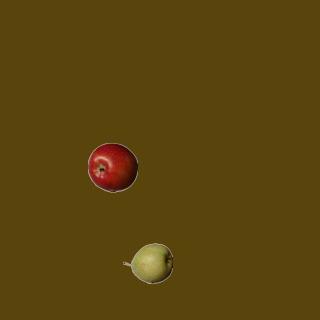Apple Braeburn: (87, 142, 137, 192)
Pear: (122, 238, 172, 288)
